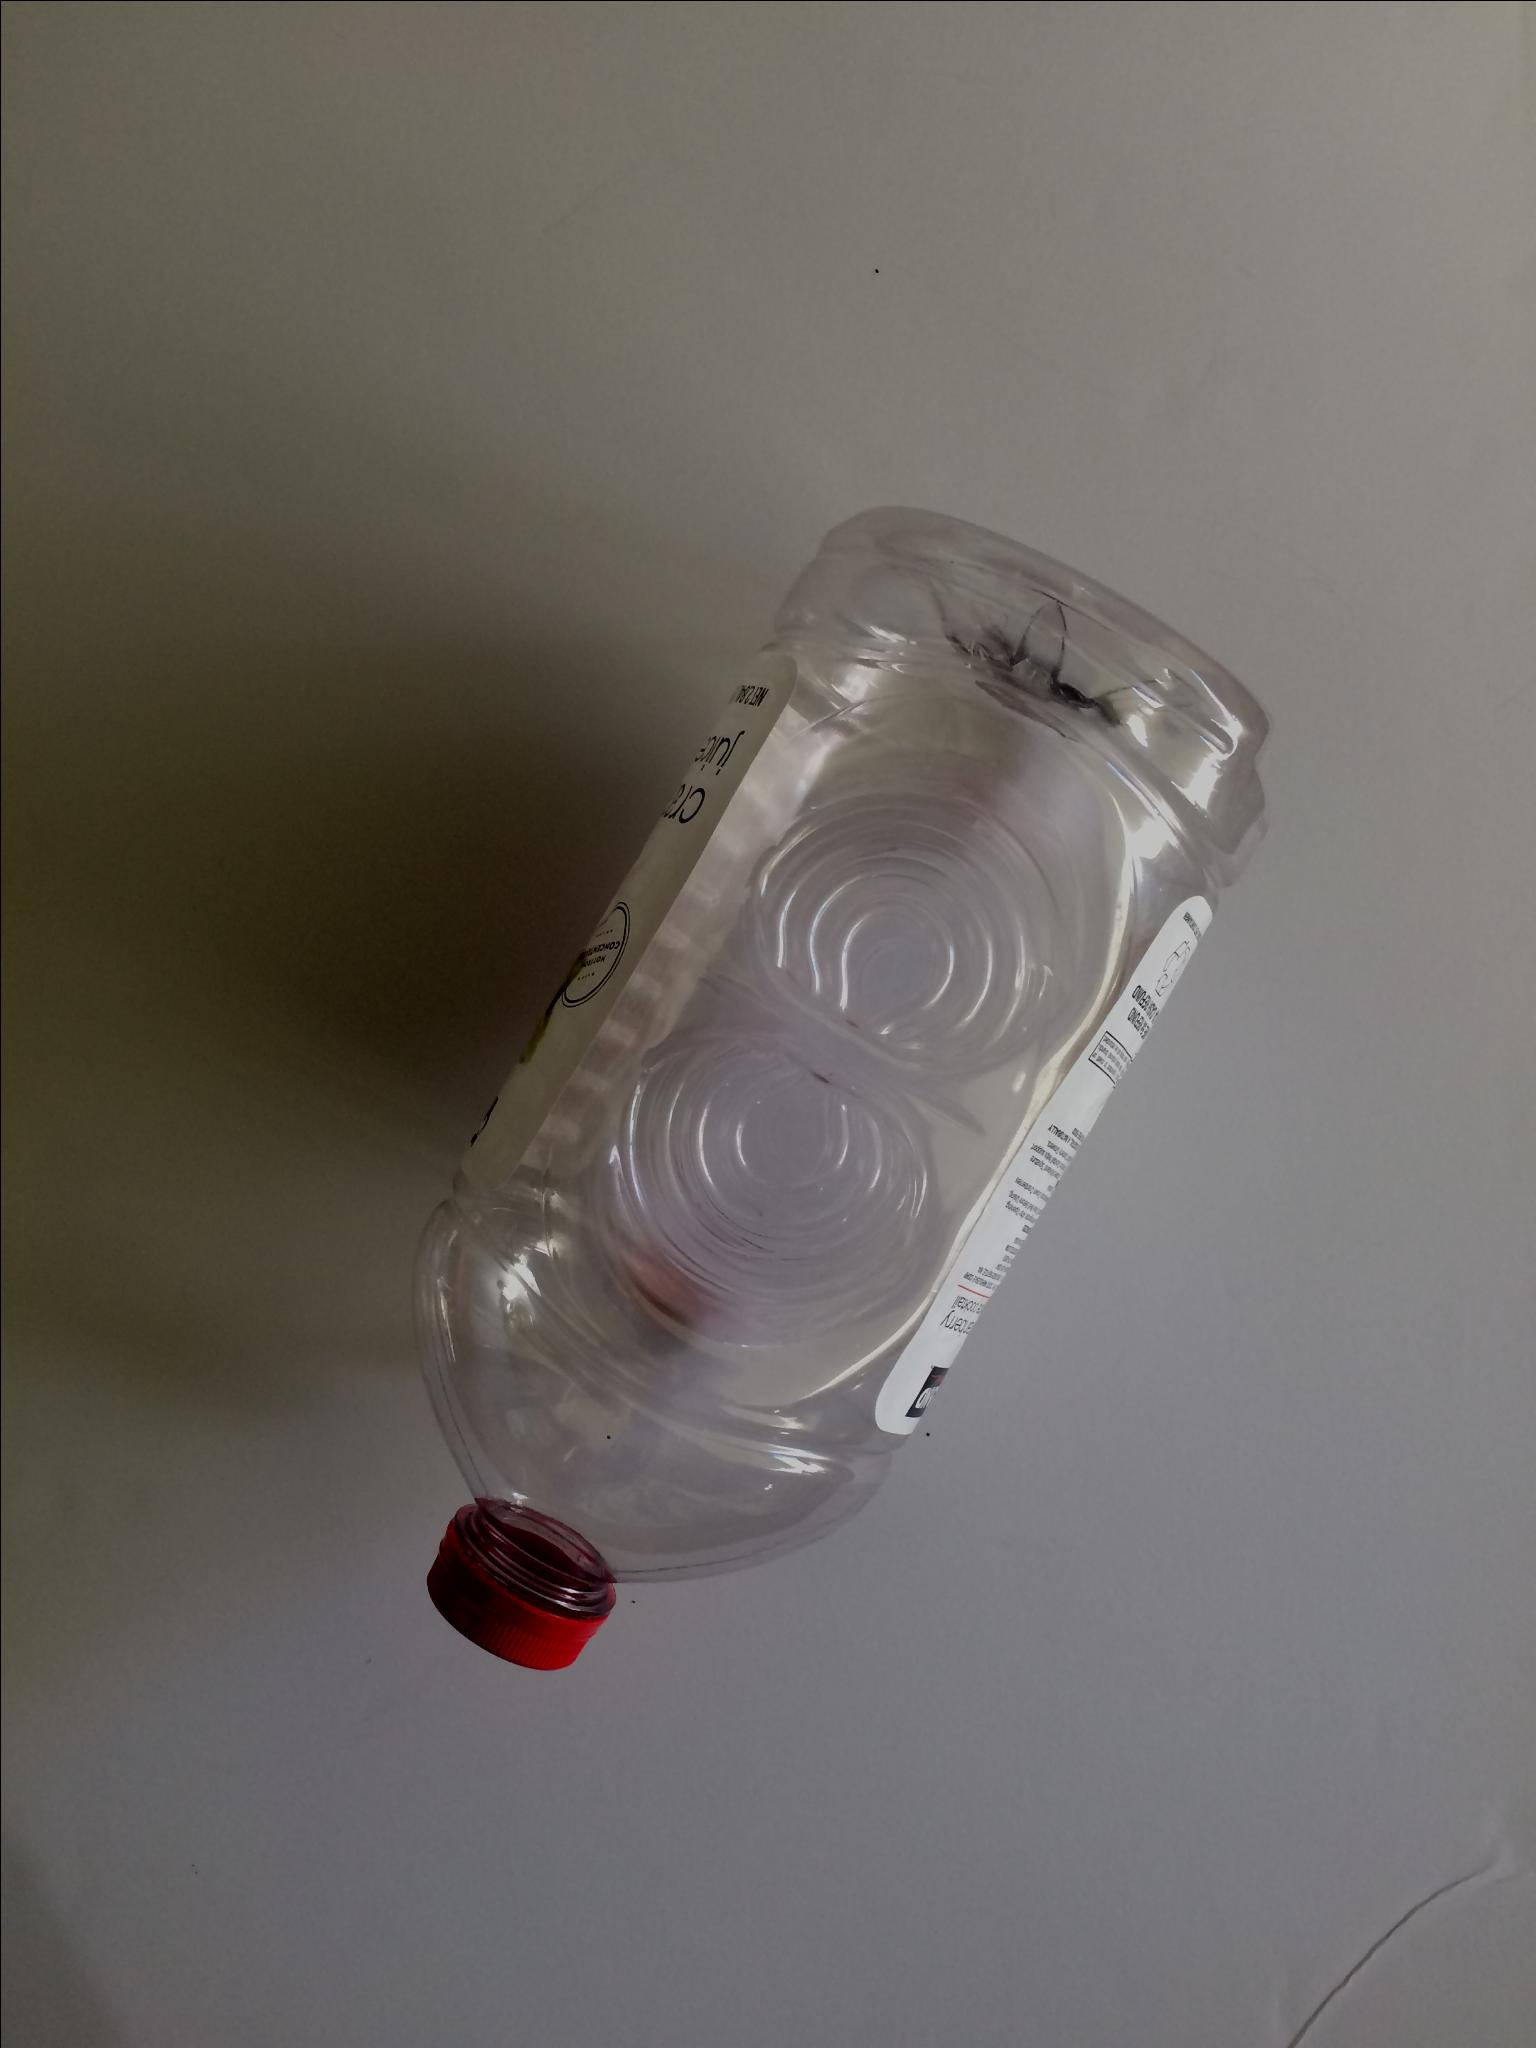Plastic: (373, 476, 1296, 1693)
